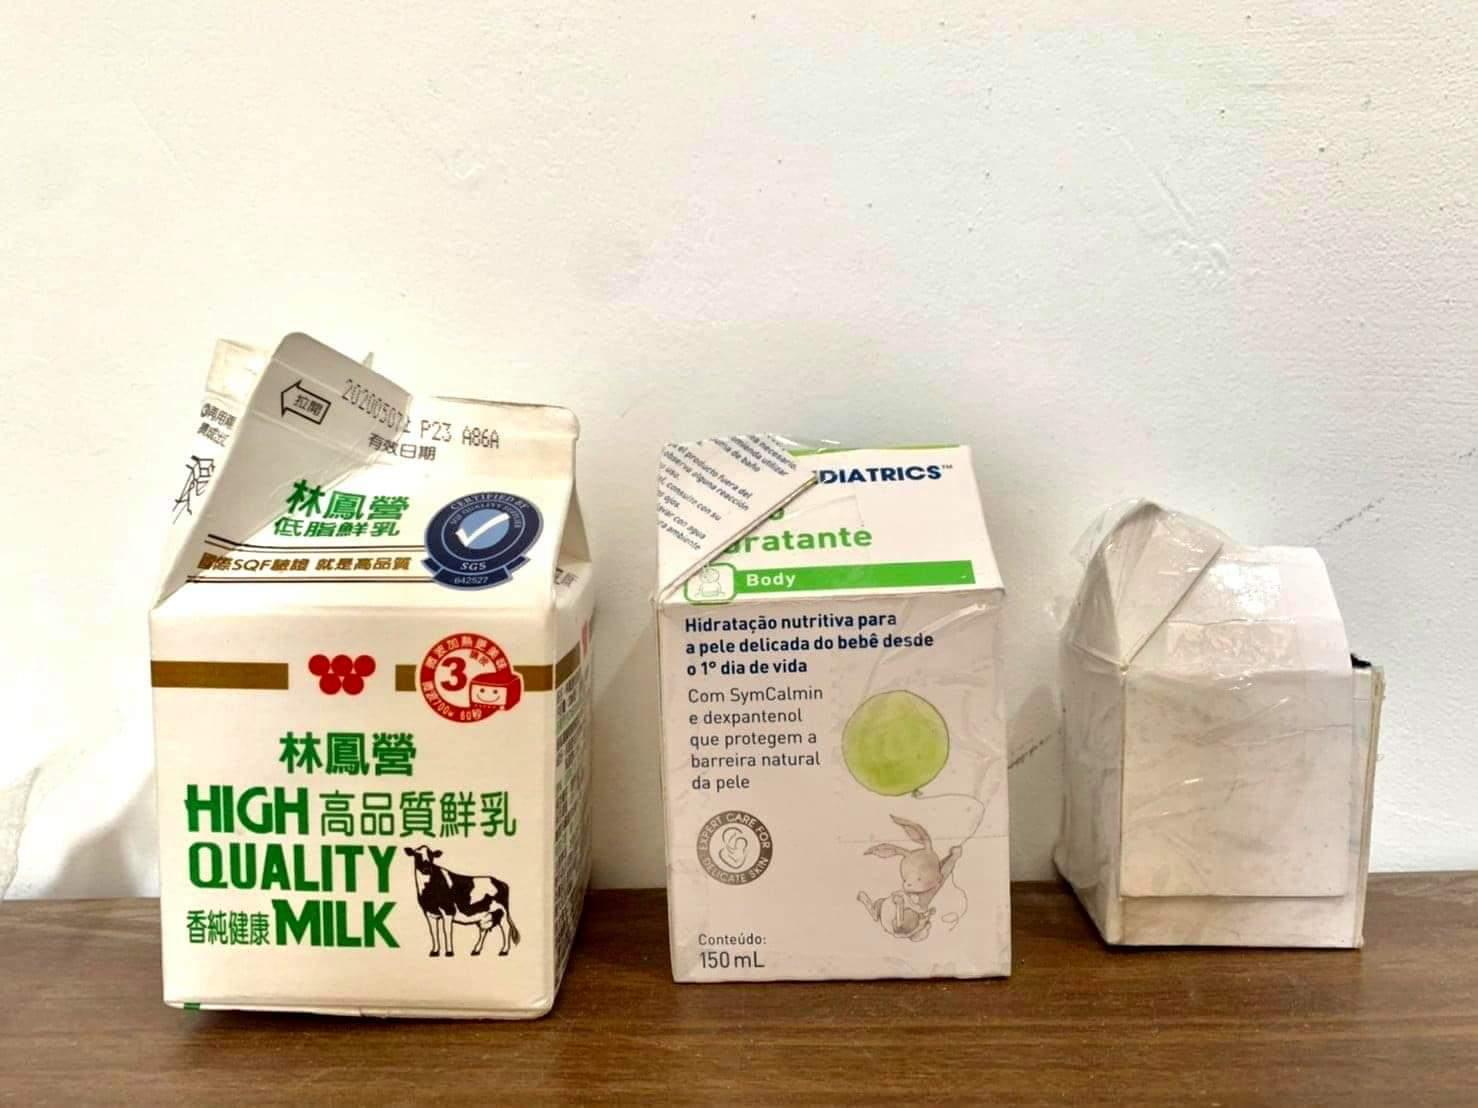cardboard: (154, 331, 591, 1018), (658, 434, 1021, 986), (1068, 516, 1395, 956)
